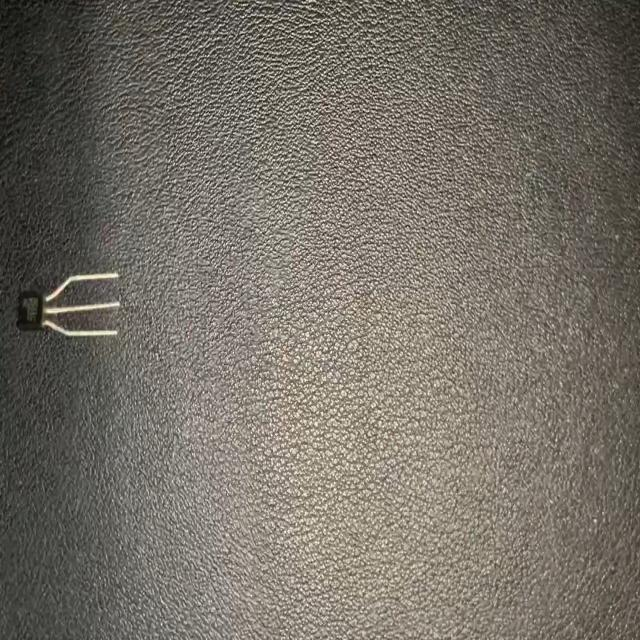BJT: (12, 268, 121, 344)
